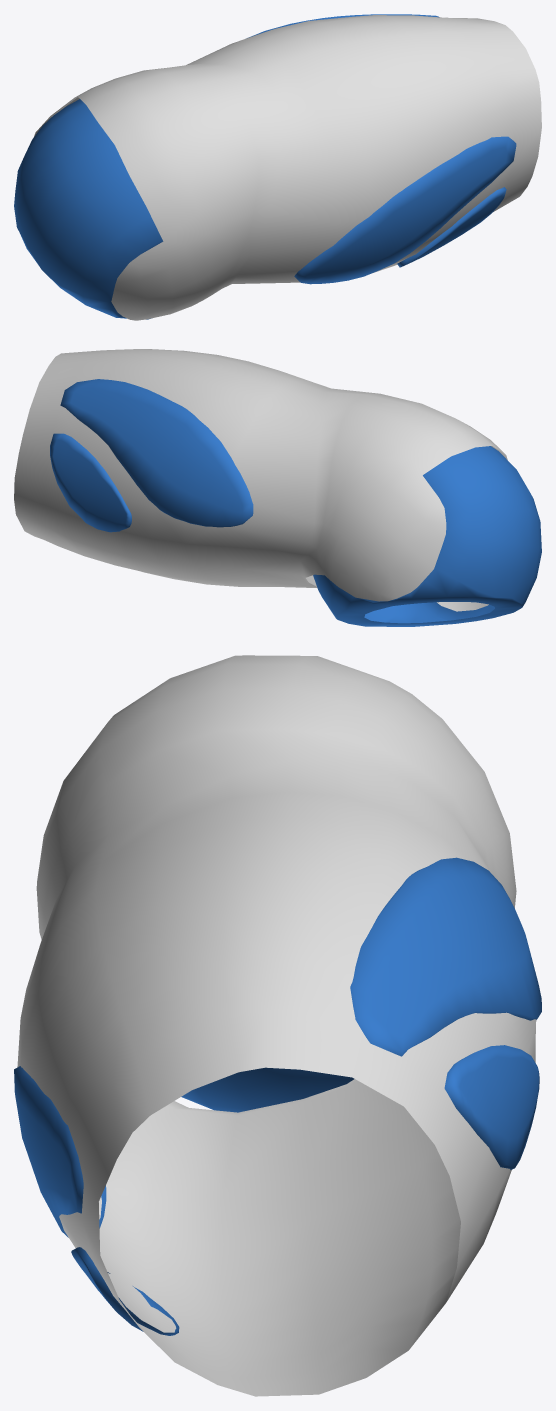
File: LShoulderYaw.dae
3 views of the same model, one above another, from view 1: azimuth 30°, elevation 25°; view 2: azimuth 150°, elevation 25°; view 3: azimuth 270°, elevation 25° (orthographic). The views are drawn at different scales.
Parts seen in each view (by area): view 1: LShoulderYaw; view 2: LShoulderYaw; view 3: LShoulderYaw.
Part boxes in pixels (bbox=[...]): LShoulderYaw: bbox=[14, 14, 541, 320]; LShoulderYaw: bbox=[14, 349, 541, 626]; LShoulderYaw: bbox=[14, 655, 541, 1396].
Size of the model in its own units: 0.2459 by 0.1107 by 0.12.
